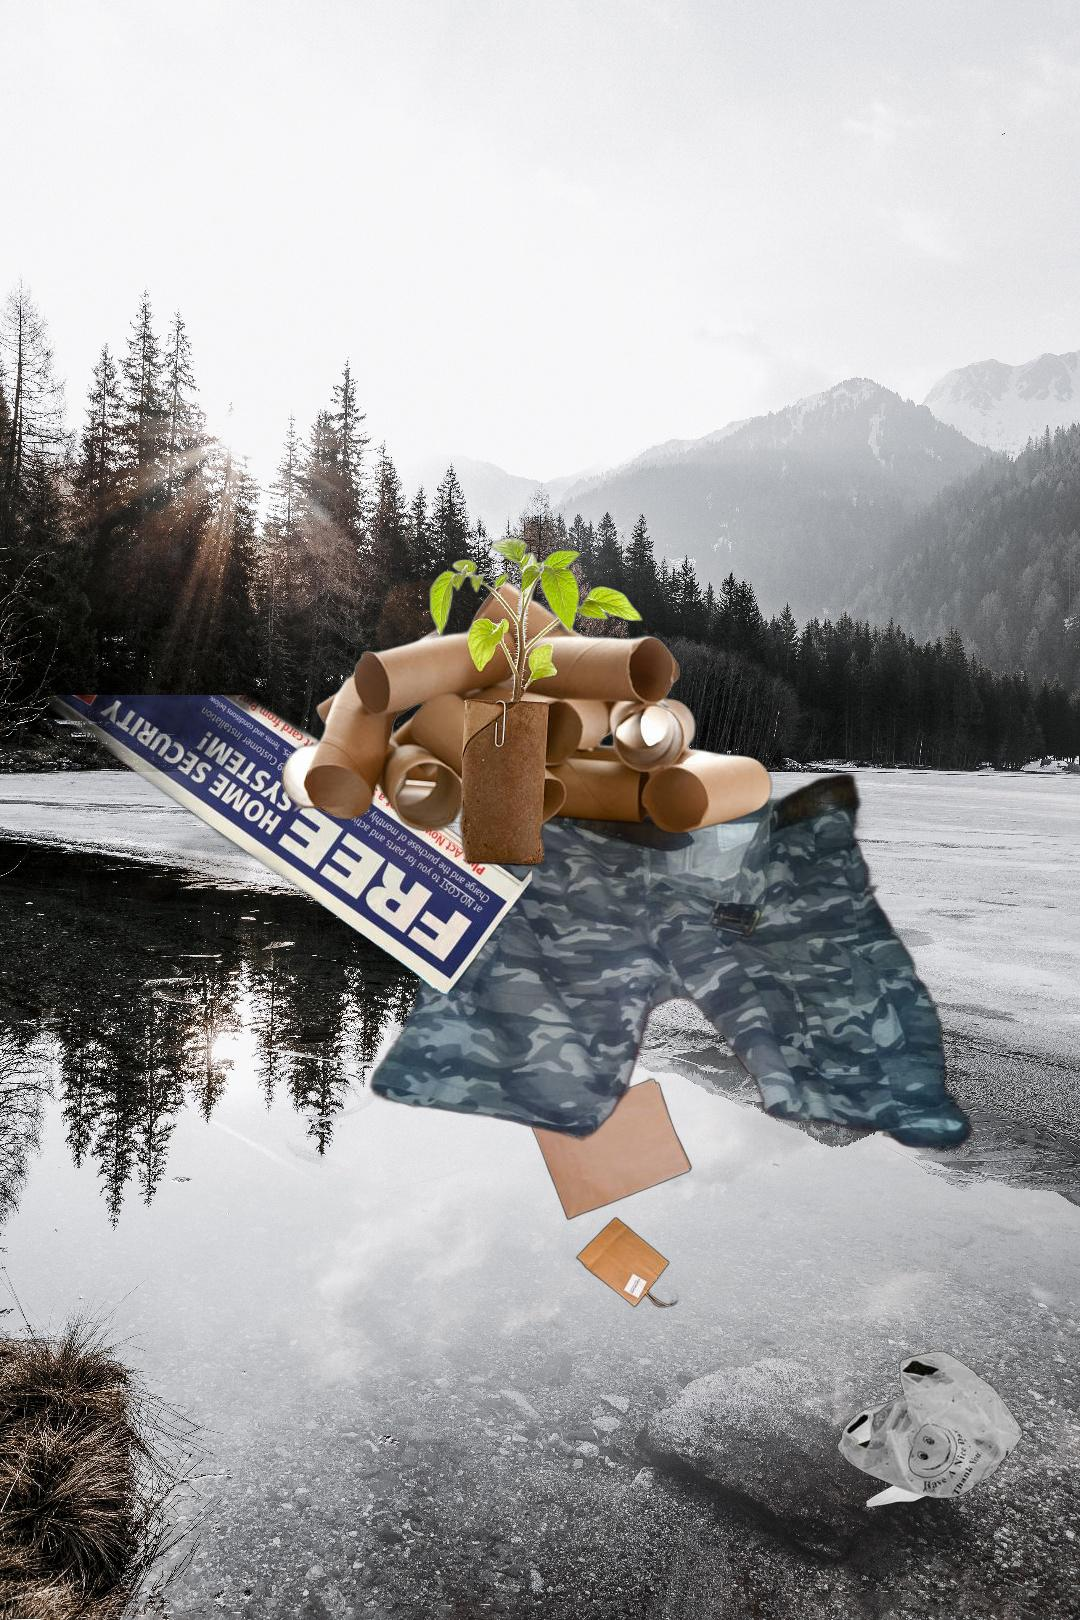clothes: (365, 751, 977, 1151)
paper: (20, 695, 532, 1079)
paper-bag: (529, 1076, 695, 1311)
plastic-bag: (834, 1350, 1025, 1510)
trashbox-cardboard: (276, 534, 777, 869)
